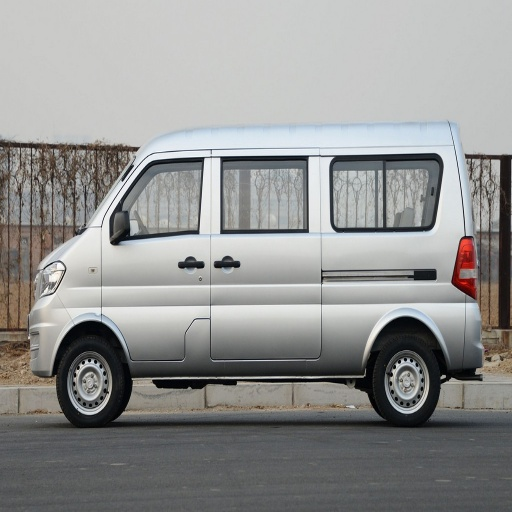back_left_door: (211, 153, 300, 357), (350, 153, 444, 215)
front_left_door: (103, 152, 222, 362)
trunk: (237, 267, 470, 376)
